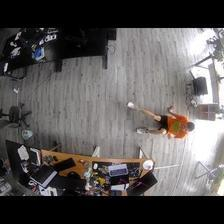fall: (126, 99, 197, 141)
